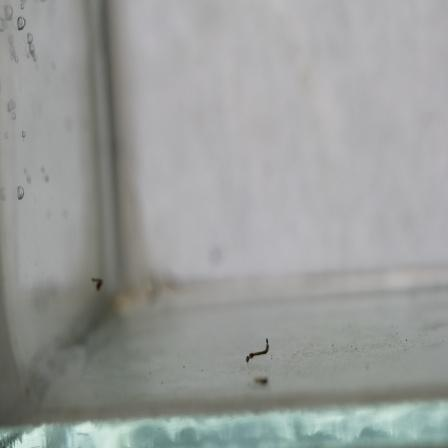Jentik-Nyamuk: (243, 335, 272, 366)
